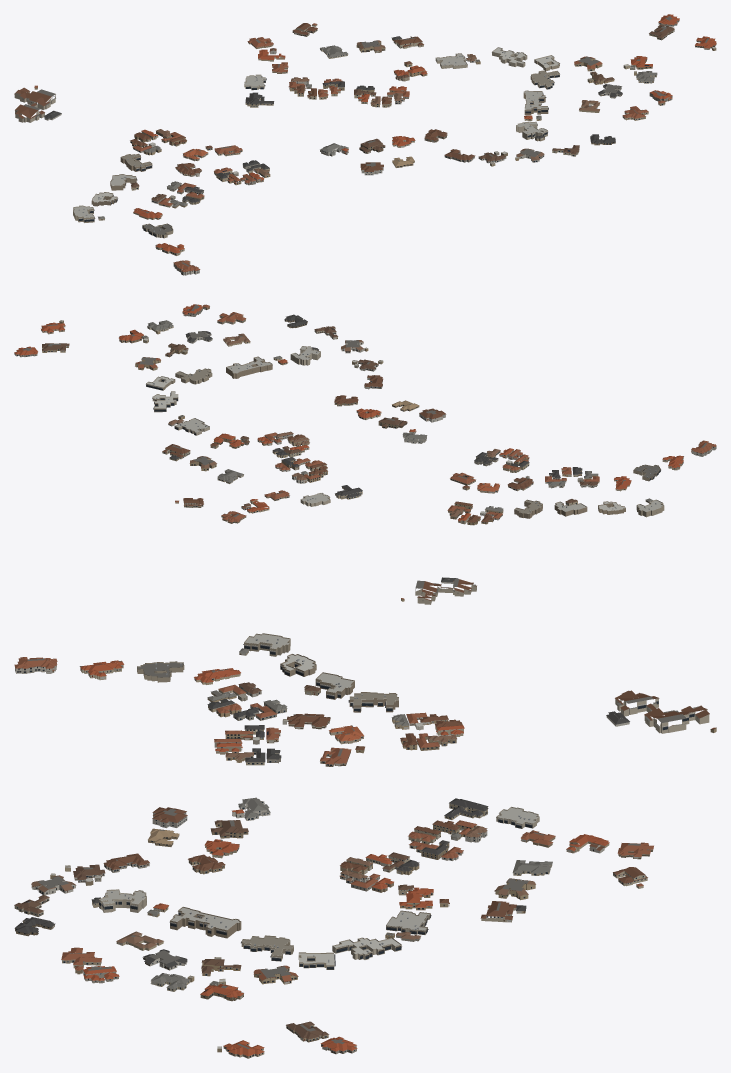
The picture shows the model from 3 angles, top to bottom: view 1: azimuth 30°, elevation 25°; view 2: azimuth 150°, elevation 25°; view 3: azimuth 270°, elevation 25°; orthographic projection. The views are drawn at different scales.
Visible parts, largest first — view 1: buildings_r7_c2_lod0; view 2: buildings_r7_c2_lod0; view 3: buildings_r7_c2_lod0.
Part boxes in pixels (bbox=[...]): buildings_r7_c2_lod0: bbox=[14, 14, 716, 275]; buildings_r7_c2_lod0: bbox=[14, 304, 716, 604]; buildings_r7_c2_lod0: bbox=[14, 633, 716, 1058].
Size of the model in its own units: 1132 by 76.36 by 729.
